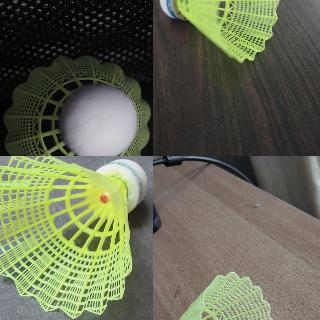shuttlecock: (0, 156, 149, 319), (4, 55, 151, 155), (159, 0, 280, 62), (153, 272, 276, 319)
